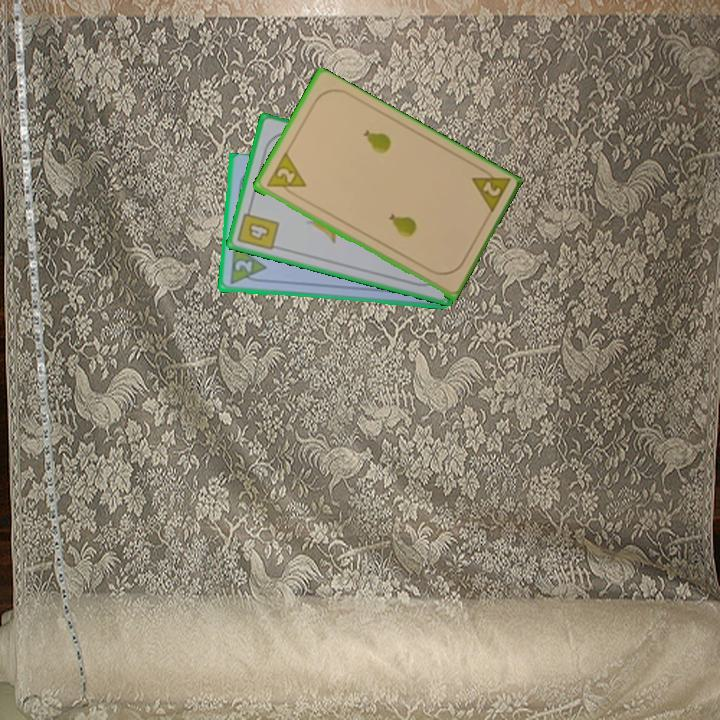2p: (467, 163, 512, 218), (262, 150, 309, 200), (231, 257, 255, 276)
4b: (234, 203, 282, 253)
